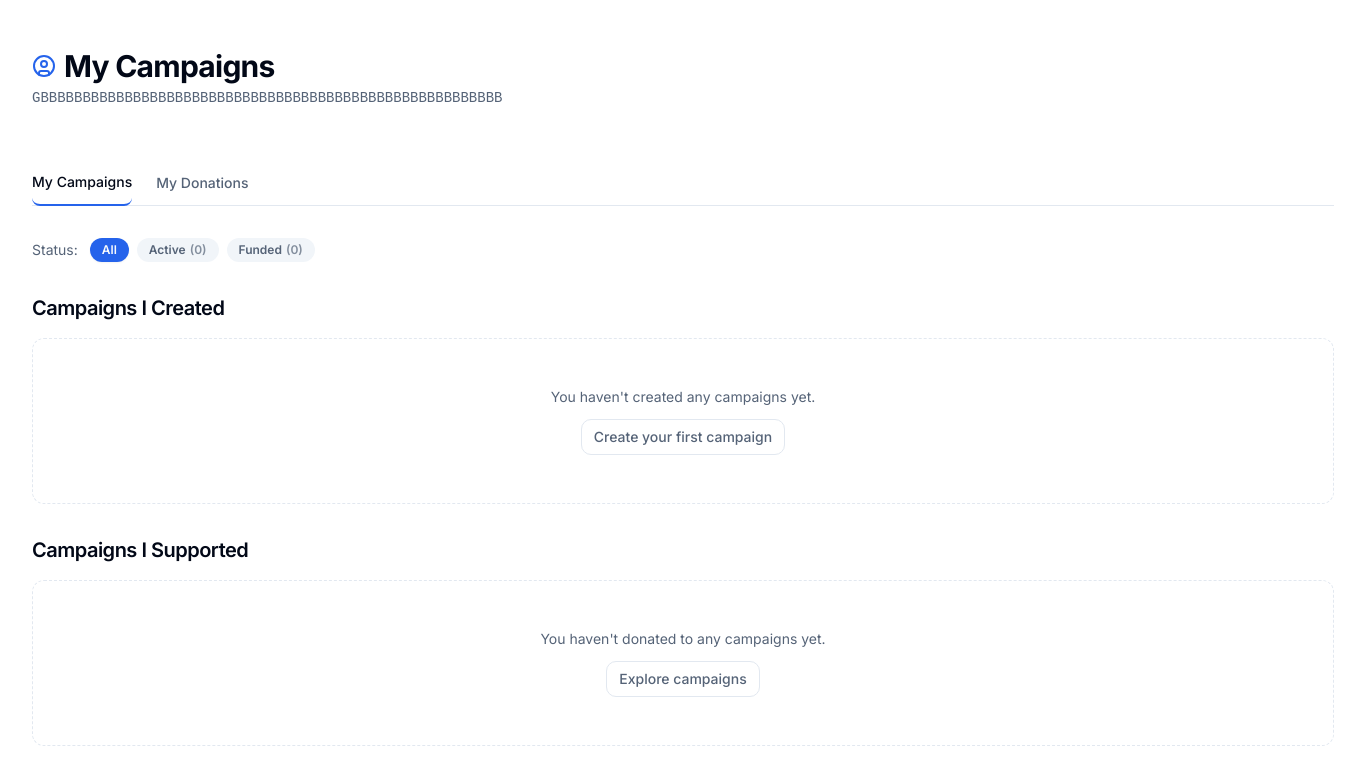
Scenario: ProfilePage - malformed event payloads › renders placeholders for missing fields and ignores non-event entries
Click the tab "My Donations".
click(202, 188)  # box [156,172,248,204]
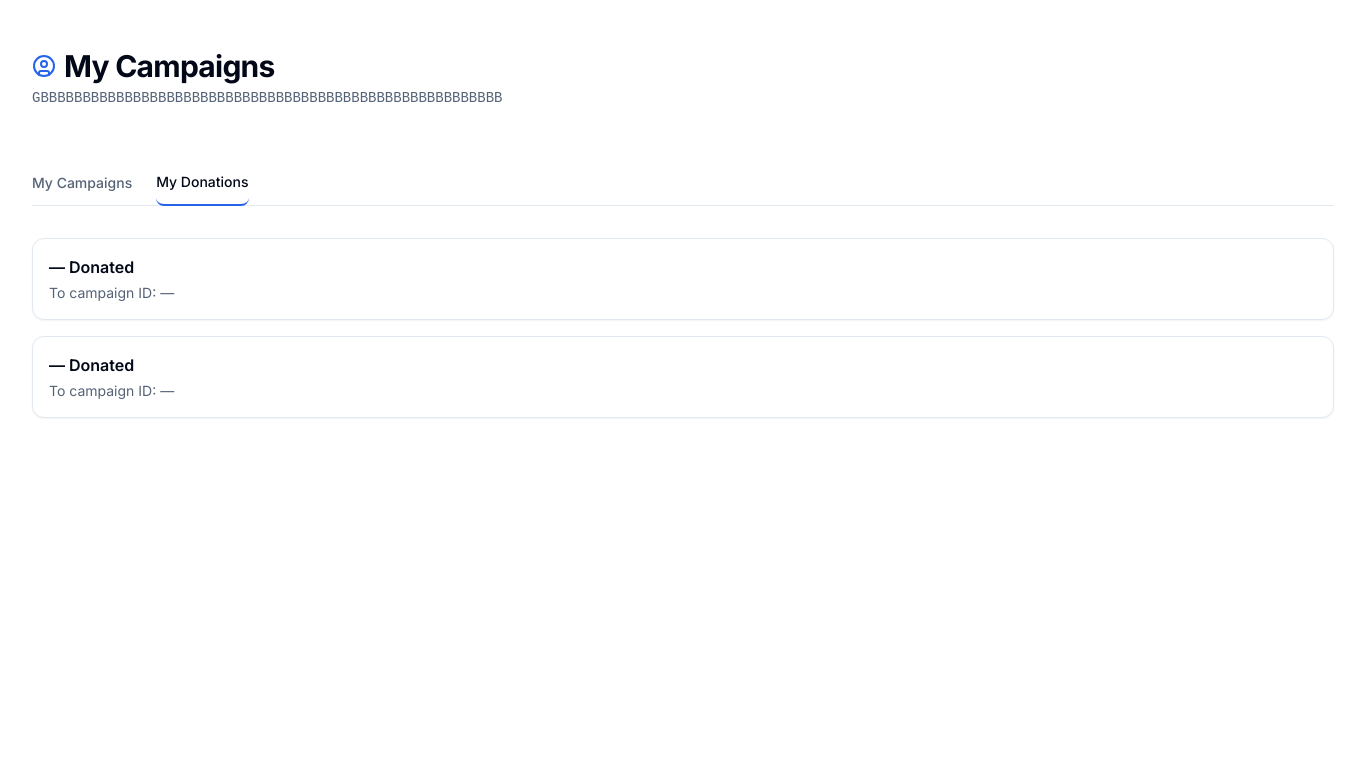
Result: the text "— Donated" is shown 2 times at [49,257,134,277]; [49,355,134,375]
Result: the text "To campaign ID: —" is shown 2 times at [49,283,174,303]; [49,381,174,401]
